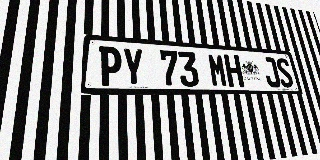3: (178, 51, 199, 87)
7: (158, 50, 180, 87)
H: (223, 54, 244, 87)
J: (261, 57, 282, 87)
M: (207, 53, 228, 87)
P: (98, 46, 122, 86)
S: (275, 58, 295, 88)
Y: (122, 47, 144, 86)
